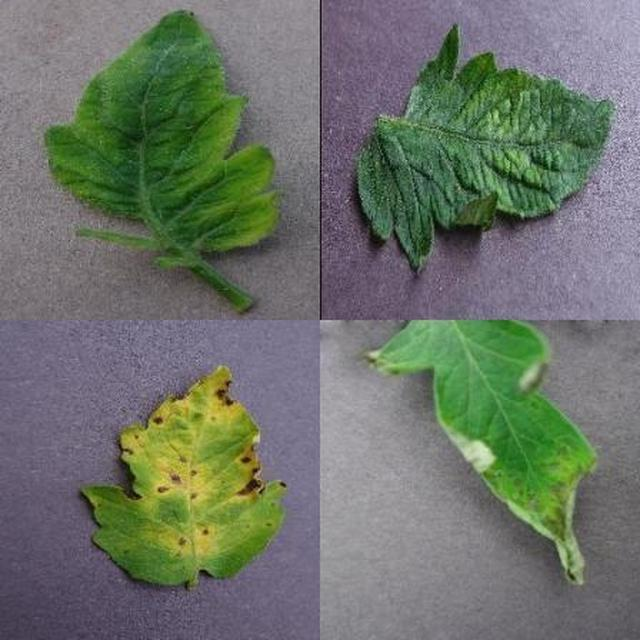Yellow Leaf Curl Virus: (236, 185, 640, 640)
